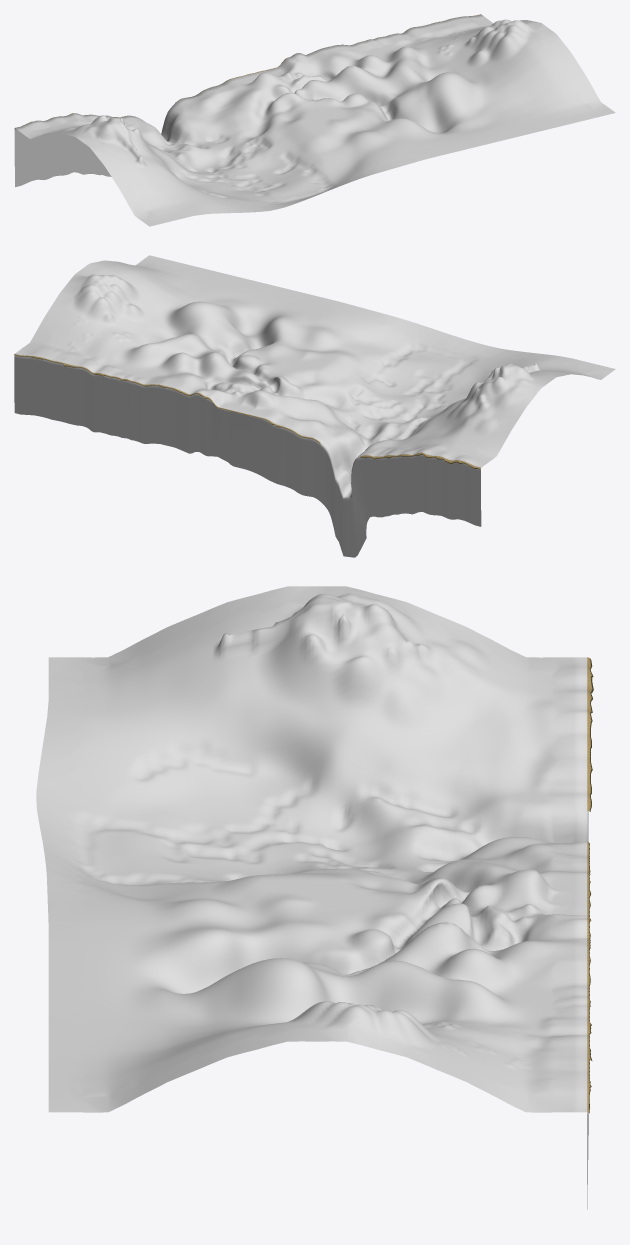
The model's file is Landscape.fbx.
3 views of the same model, one above another, from view 1: azimuth 30°, elevation 25°; view 2: azimuth 150°, elevation 25°; view 3: azimuth 270°, elevation 25° (orthographic). The views are drawn at different scales.
Parts seen in each view (by area): view 1: Landscape; view 2: Landscape; view 3: Landscape.
Boxes of the visible parts, x1=… form: Landscape: x1=14, y1=14, x2=615, y2=226; Landscape: x1=14, y1=255, x2=615, y2=557; Landscape: x1=36, y1=586, x2=593, y2=1209.
Size of the model in its own units: 100000 by 34406 by 51765.
